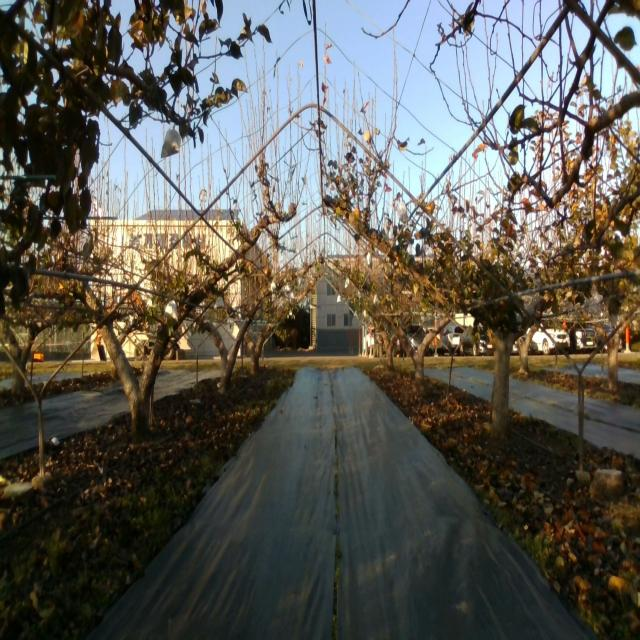pearbags: (161, 129, 181, 159), (164, 300, 178, 324), (398, 202, 408, 224)
